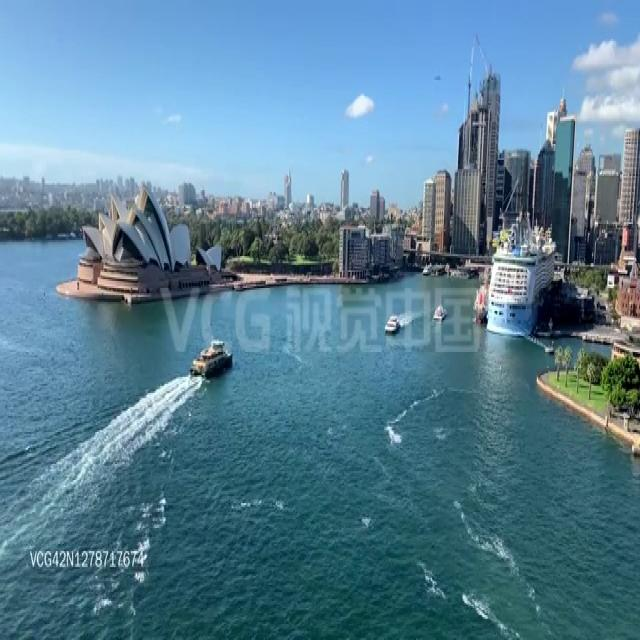houseboat: (187, 334, 233, 378), (432, 300, 446, 324), (385, 310, 398, 333)
passenger ship: (489, 204, 557, 338)
